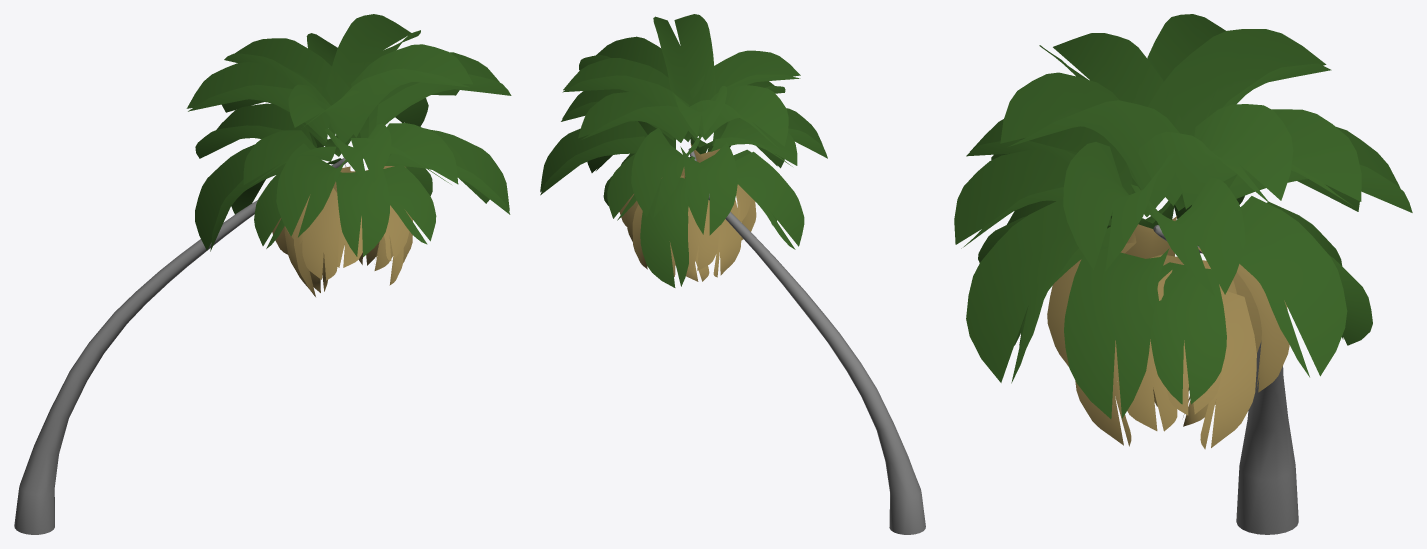
The model's file is SM_palm_tree_desert_02.fbx.
3 renders of one model, left to right at view 1: azimuth 30°, elevation 25°; view 2: azimuth 150°, elevation 25°; view 3: azimuth 270°, elevation 25°, orthographic. The views are drawn at different scales.
Parts seen in each view (by area): view 1: Object009; view 2: Object009; view 3: Object009.
Part boxes in pixels (left/top/right/bottom): Object009: left=14, top=14, right=511, bottom=534; Object009: left=540, top=14, right=925, bottom=534; Object009: left=954, top=14, right=1412, bottom=534.
Bounding box in the file's own units: 211 × 202 × 125.
